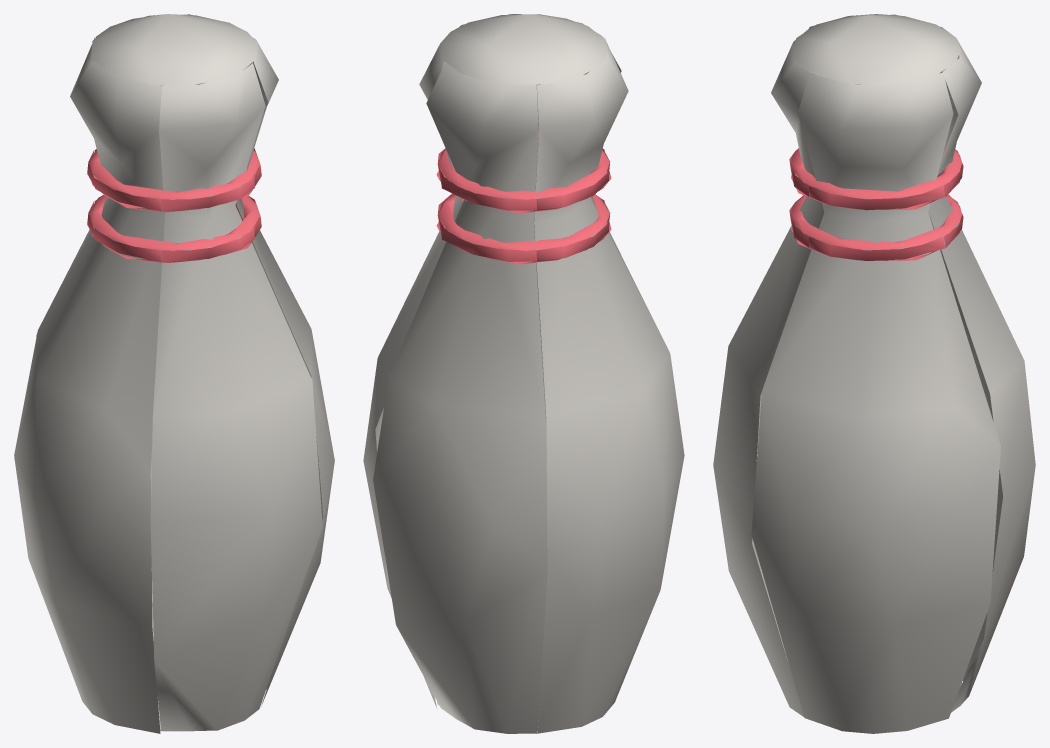
Rendered from bowling_pin_smooth.glb.
The picture shows the model from 3 angles, left to right: view 1: azimuth 30°, elevation 25°; view 2: azimuth 150°, elevation 25°; view 3: azimuth 270°, elevation 25°; orthographic projection.
Parts seen in each view (by area): view 1: PinBody, RedStripe_0.34, RedStripe_0.46; view 2: PinBody, RedStripe_0.34, RedStripe_0.46; view 3: PinBody, RedStripe_0.34, RedStripe_0.46.
Part boxes in pixels (left/top/right/bottom): PinBody: left=14, top=14, right=334, bottom=733; RedStripe_0.34: left=87, top=183, right=261, bottom=262; RedStripe_0.46: left=87, top=148, right=261, bottom=212; PinBody: left=363, top=14, right=684, bottom=733; RedStripe_0.34: left=436, top=183, right=611, bottom=264; RedStripe_0.46: left=436, top=131, right=611, bottom=213; PinBody: left=713, top=14, right=1035, bottom=733; RedStripe_0.34: left=789, top=194, right=963, bottom=260; RedStripe_0.46: left=789, top=148, right=963, bottom=210.
Bounding box in the file's own units: 0.6912 × 1.56 × 0.6882.
